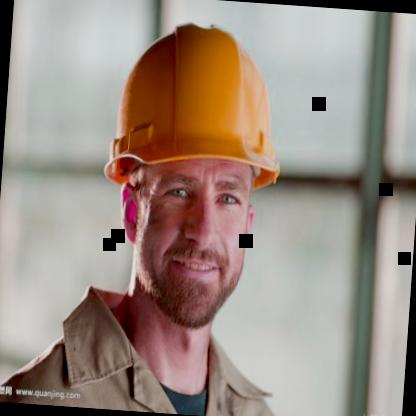helmet: (71, 0, 313, 372)
